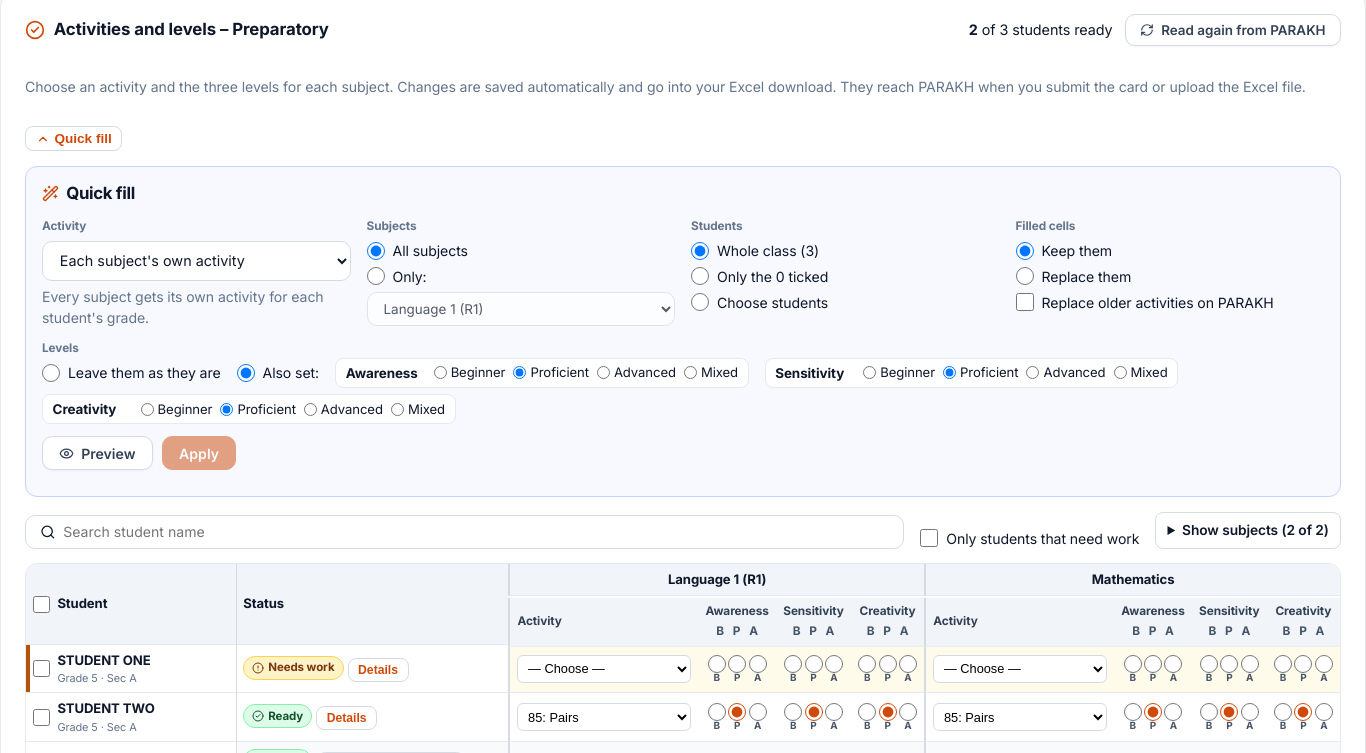
Test case: Activities grid › explains what to fix and lets a locked student be replaced
This screenshot has width=1366, height=753.
Expected: the text "STUDENT ONE" is shown, [57,651,151,670]
Step 1. Click the button named "Details for STUDENT ONE" → (378, 670), box [348,658,409,682]
(page scrolled)
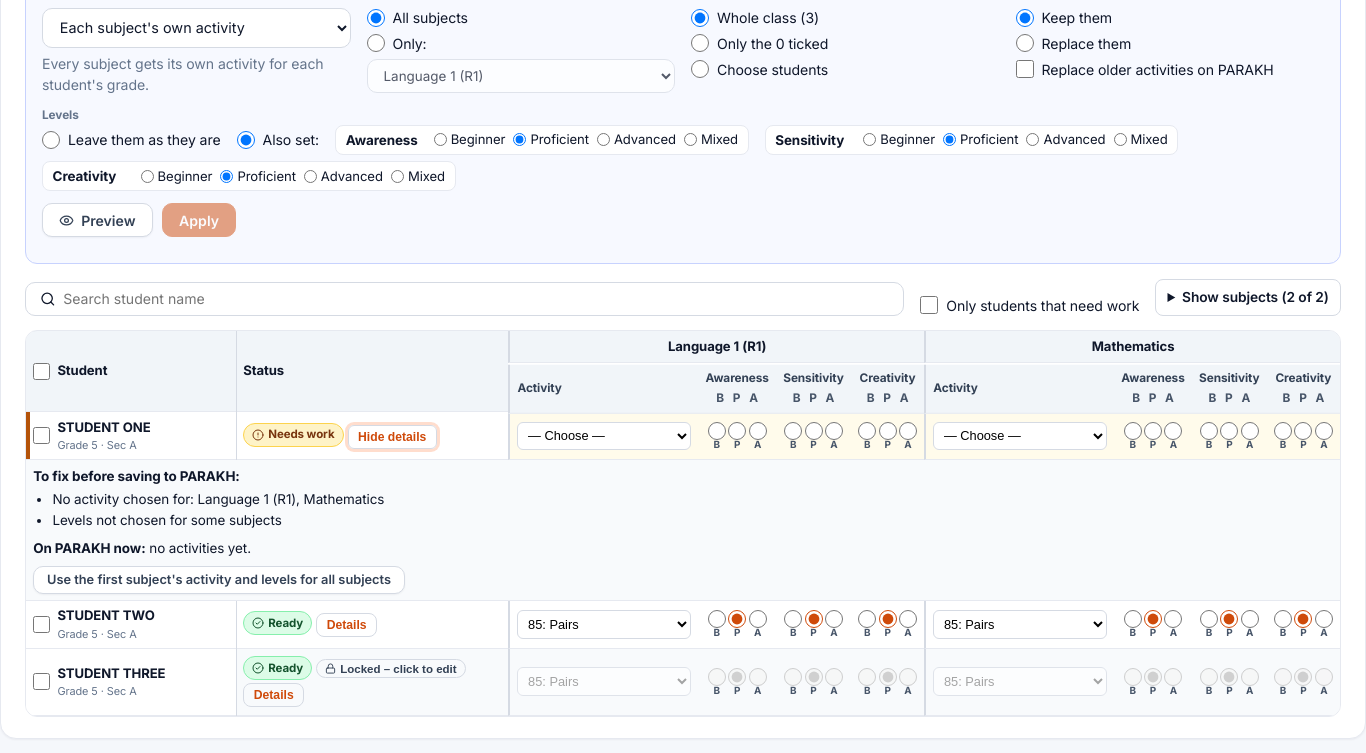
Now the list item "No activity chosen for: Language 1 (R1), Mathematics" is shown, box [52,491,384,507]
Step 2. Click the button named "Details for STUDENT THREE" → (274, 695), box [243,683,304,707]
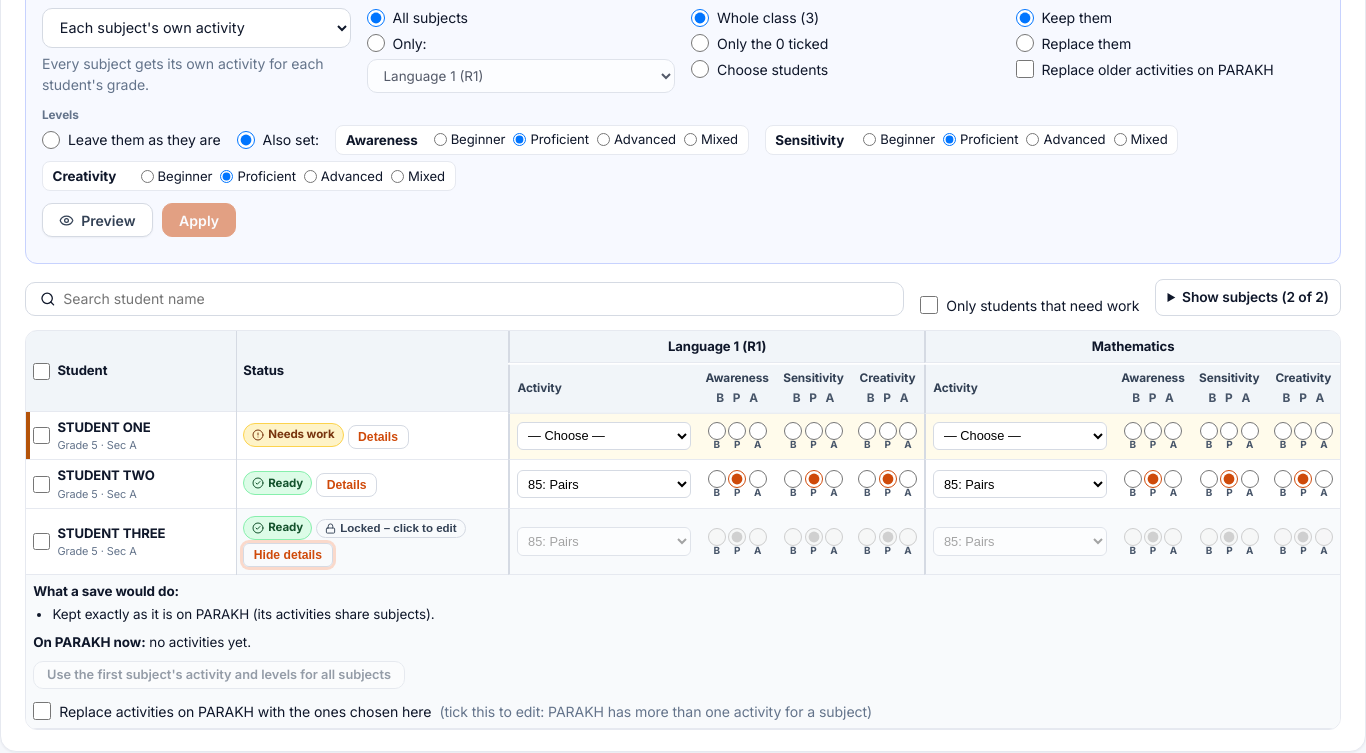
Now the list item "Kept exactly as it is on PARAKH" is shown, box [52,606,435,622]
Step 3. Click the checkbox labelled "Replace activities on PARAKH" → (42, 711), box [33,702,51,720]
(page scrolled)
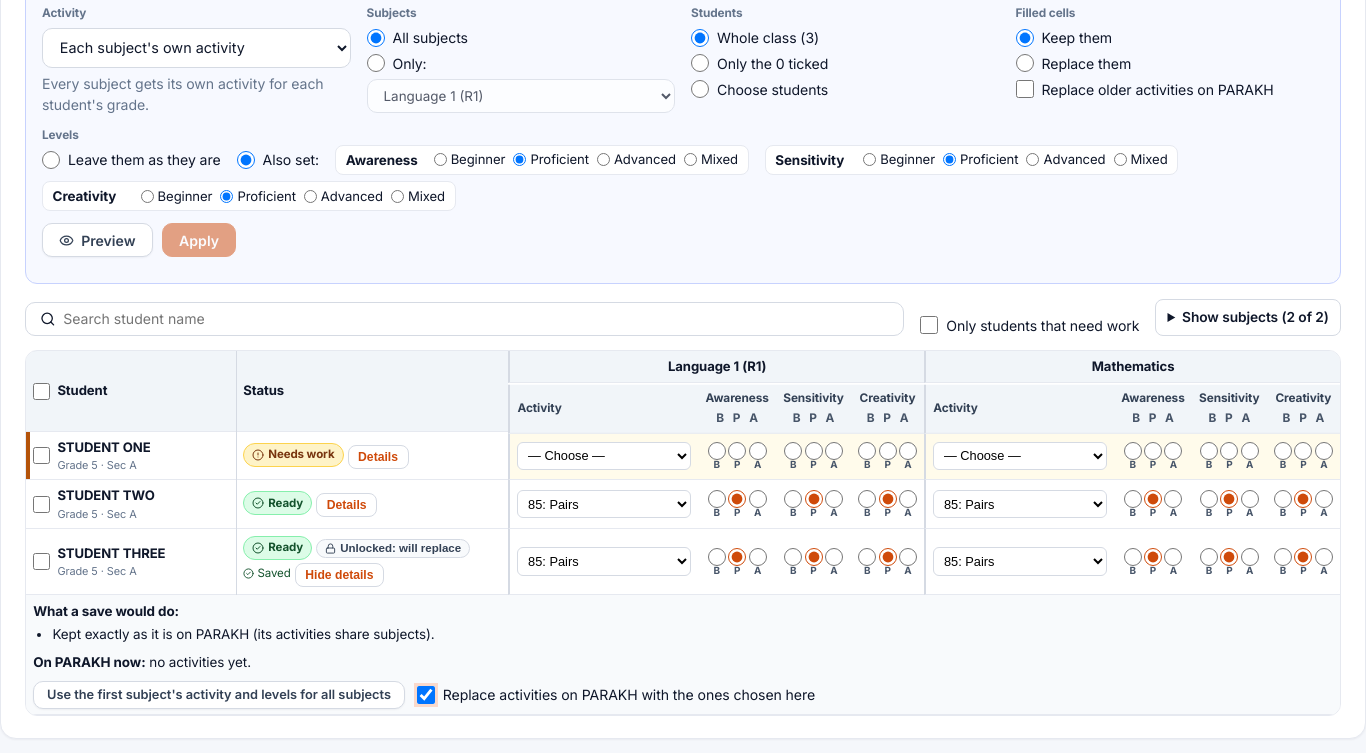
Now the dropdown named "STUDENT THREE, Mathematics, activity" is enabled, box [933,547,1107,576]
